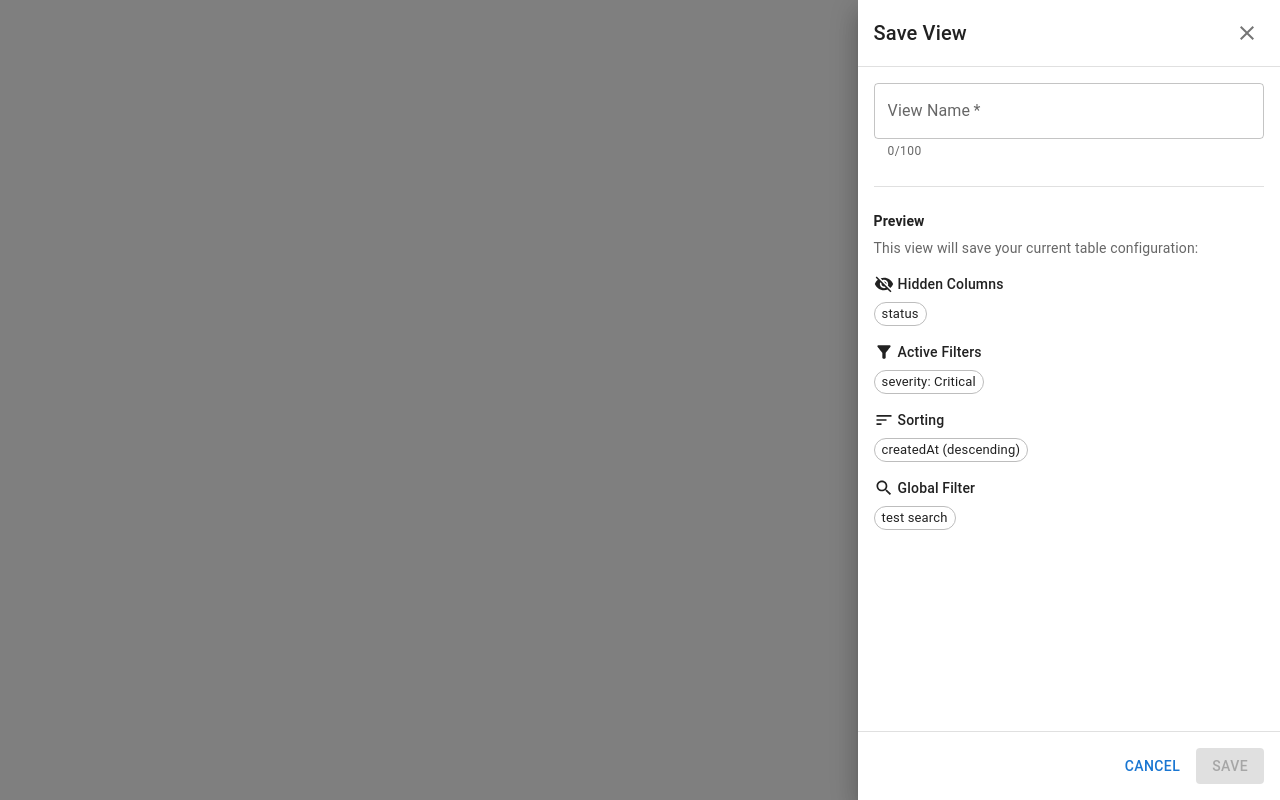
Scenario: SaveViewPanel › View Name Validation › should show error for empty name
// Clear the field and trigger validation
Clear the field labelled "View Name *" at x=1069, y=111, box [874, 83, 1264, 139]
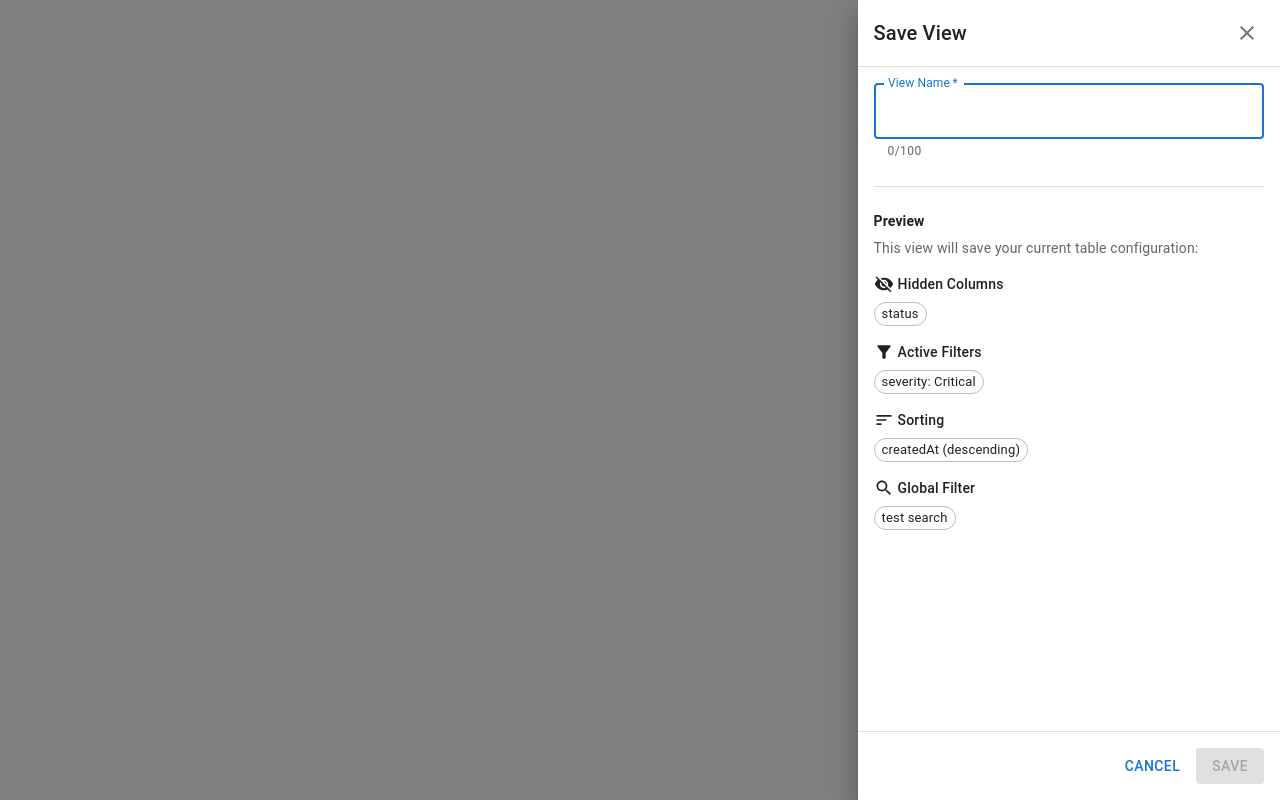
Press Tab
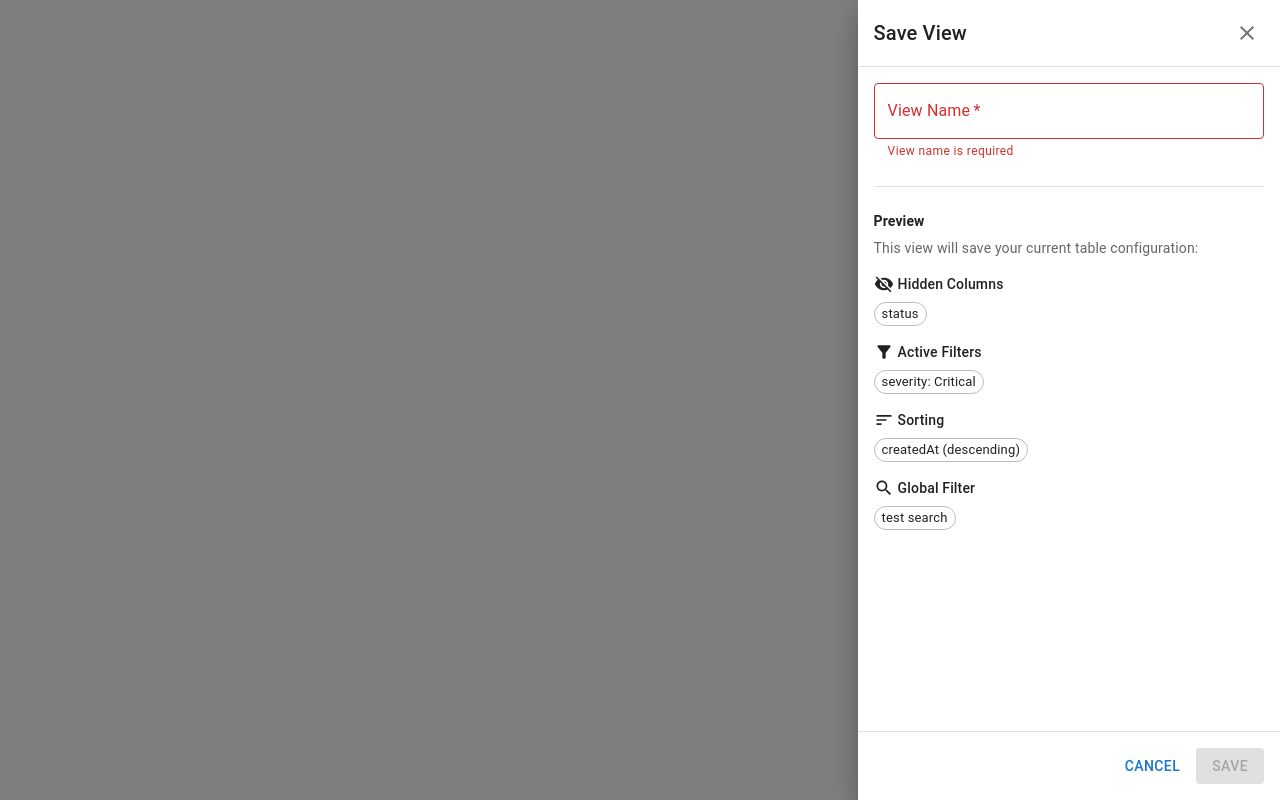
Check: the button "Save" is disabled, box [1196, 748, 1264, 784]
Check: the text "View name is required" is shown, box [888, 144, 1014, 158]
